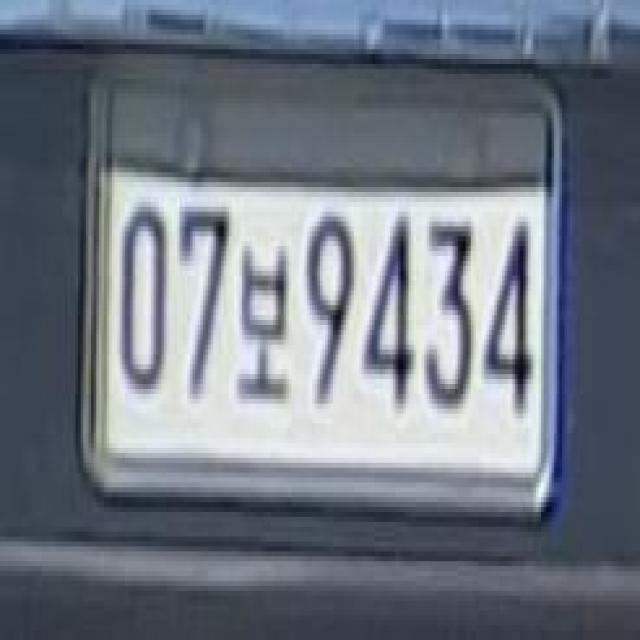illegal_plate: (83, 133, 560, 526)
